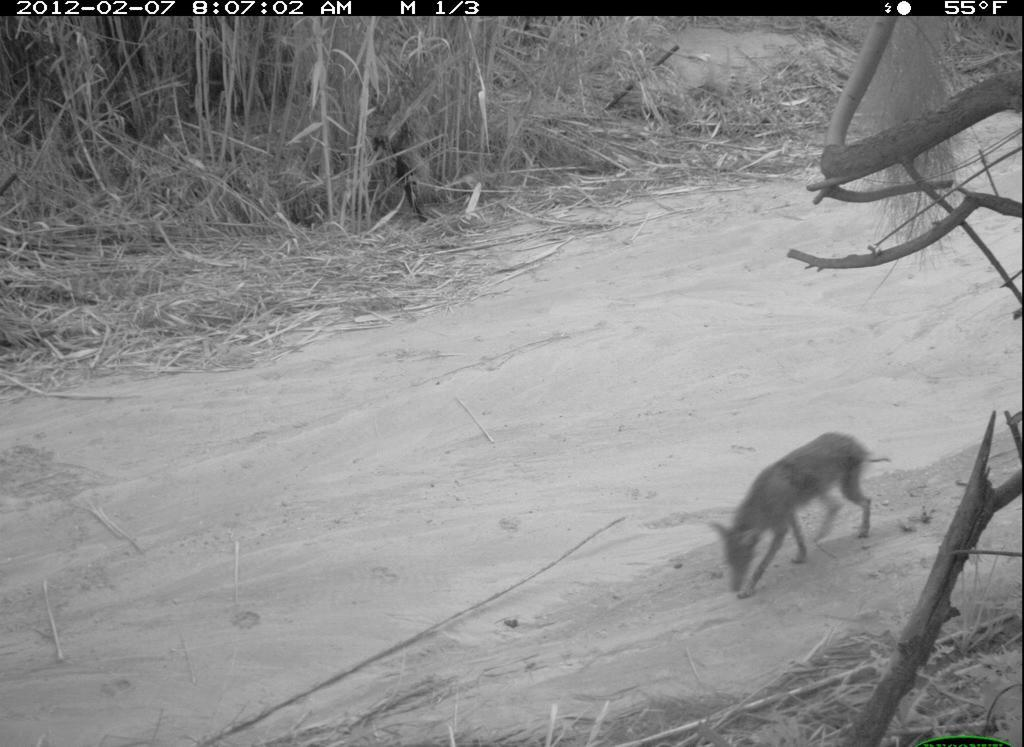coyote: (692, 423, 897, 610)
